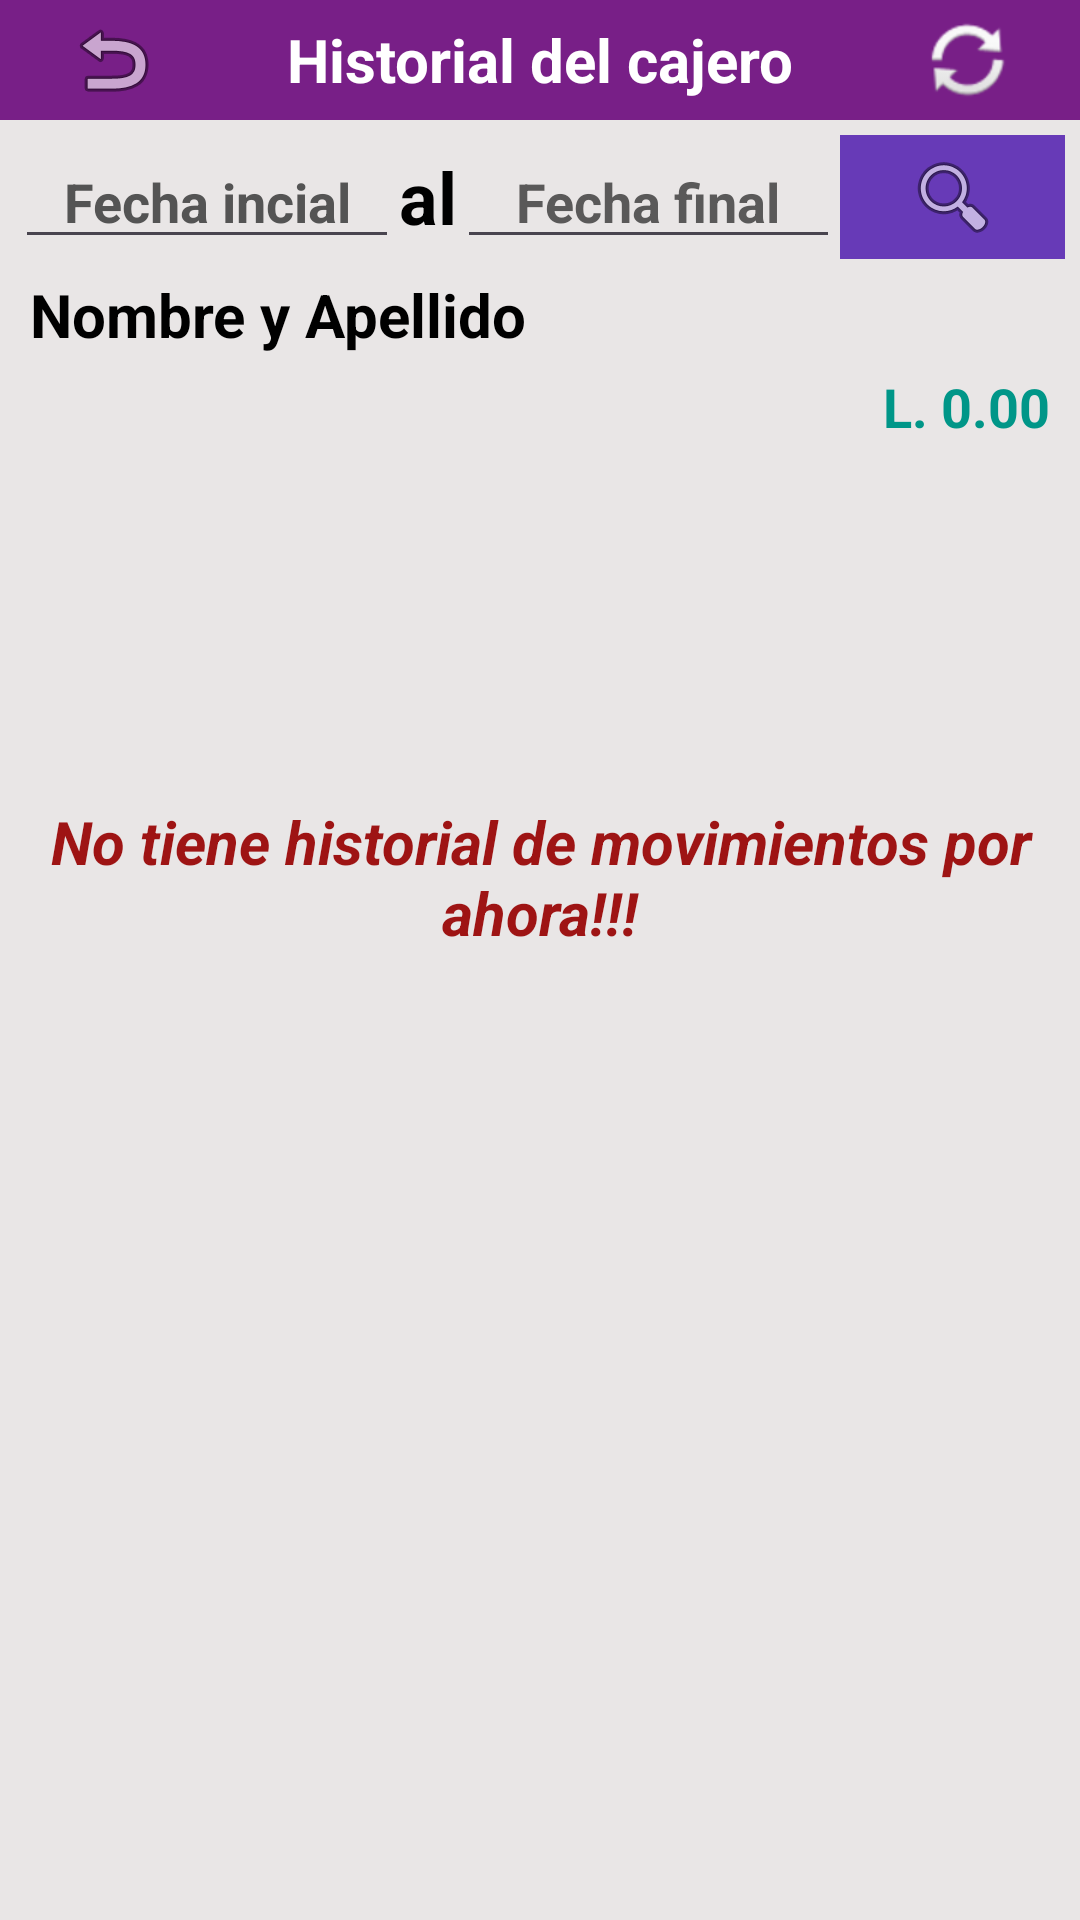

Screen size 1080 × 1920. Icon name, then its center in pixels as [x,y]:
popup sync: [967,60]
revert: [114,61]
search: [952,197]
